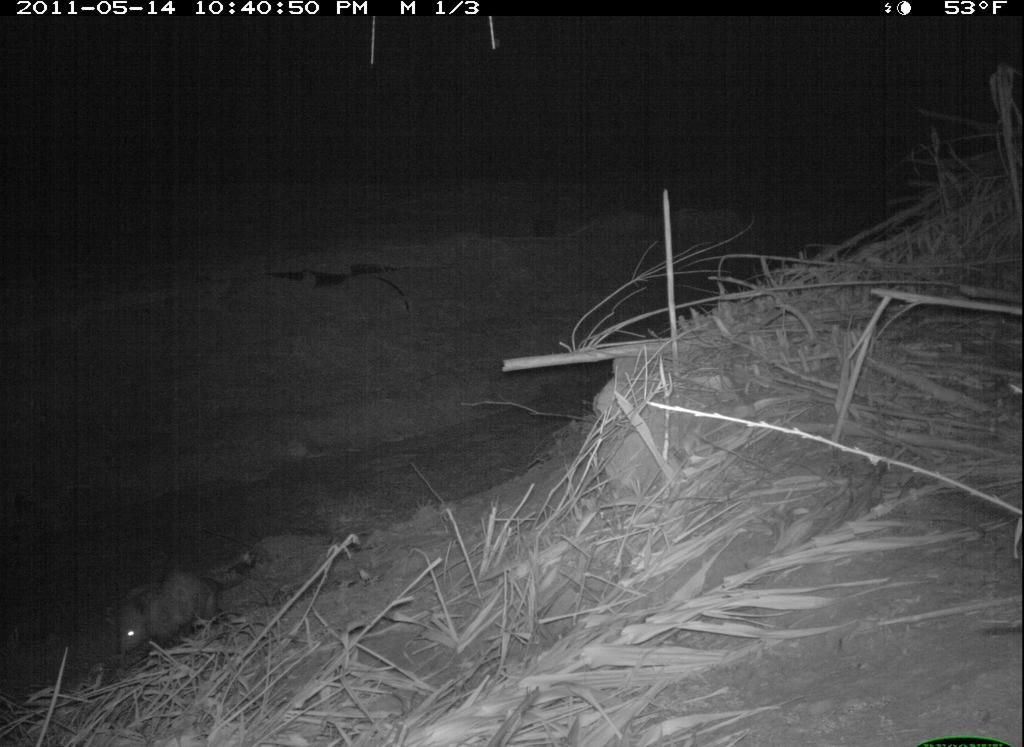opossum: (108, 538, 274, 662)
